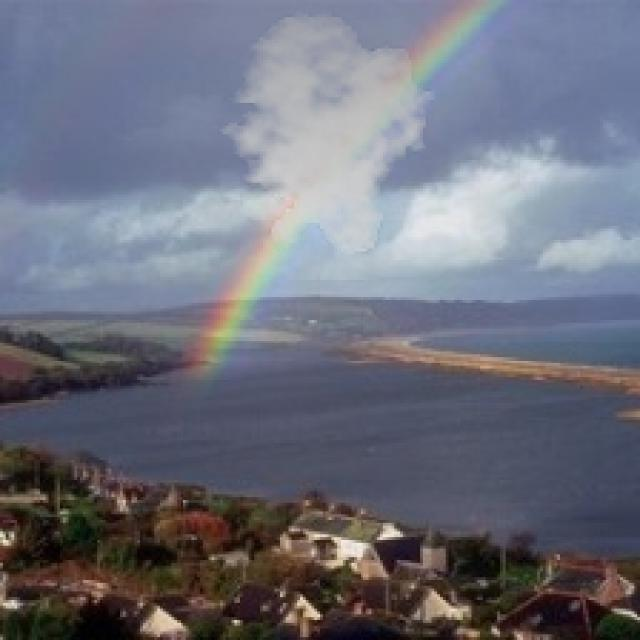smoke: (209, 12, 440, 257)
